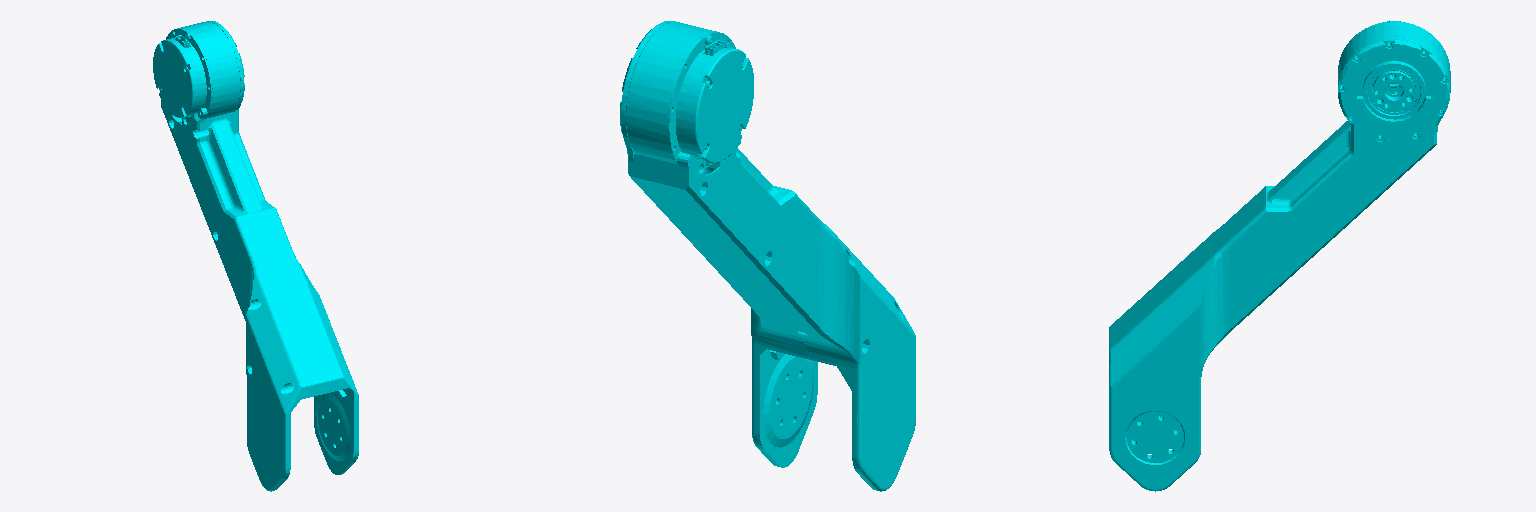
URDF robot description (URDF_armv001):
<?xml version="1.0" encoding="utf-8"?>
<!-- This URDF was automatically created by SolidWorks to URDF Exporter! Originally created by [author] ([email redacted]) 
     Commit Version: 1.6.0-4-g7f85cfe  Build Version: 1.6.7995.38578
     For more information, please see http://wiki.ros.org/sw_urdf_exporter -->
<robot
  name="URDF_armv001">
  <link
    name="base_link">
    <inertial>
      <origin
        xyz="0.00012503 1.4745E-05 0.026752"
        rpy="0 0 0" />
      <mass
        value="1.81" />
      <inertia
        ixx="0.00055145"
        ixy="1.5556E-06"
        ixz="1.4779E-06"
        iyy="0.0010327"
        iyz="8.2802E-08"
        izz="0.0014616" />
    </inertial>
    <visual>
      <origin
        xyz="0 0 0"
        rpy="0 0 0" />
      <geometry>
        <mesh
          filename="package://URDF_armv001/meshes/base_link.STL" />
      </geometry>
      <material
        name="">
        <color
          rgba="0 0.94118 0.98824 1" />
      </material>
    </visual>
    <collision>
      <origin
        xyz="0 0 0"
        rpy="0 0 0" />
      <geometry>
        <mesh
          filename="package://URDF_armv001/meshes/base_link.STL" />
      </geometry>
    </collision>
  </link>
  <link
    name="first_Link">
    <inertial>
      <origin
        xyz="0.0019709 -3.7688E-05 0.045814"
        rpy="0 0 0" />
      <mass
        value="1.05" />
      <inertia
        ixx="0.00020197"
        ixy="-1.66E-08"
        ixz="2.2663E-07"
        iyy="0.0001125"
        iyz="7.8462E-08"
        izz="0.0001431" />
    </inertial>
    <visual>
      <origin
        xyz="0 0 0"
        rpy="0 0 0" />
      <geometry>
        <mesh
          filename="package://URDF_armv001/meshes/first_Link.STL" />
      </geometry>
      <material
        name="">
        <color
          rgba="0.79216 0.81961 0.93333 1" />
      </material>
    </visual>
    <collision>
      <origin
        xyz="0 0 0"
        rpy="0 0 0" />
      <geometry>
        <mesh
          filename="package://URDF_armv001/meshes/first_Link.STL" />
      </geometry>
    </collision>
  </link>
  <joint
    name="first_joint"
    type="revolute">
    <origin
      xyz="0 0 0.0785000000000001"
      rpy="0 0 0" />
    <parent
      link="base_link" />
    <child
      link="first_Link" />
    <axis
      xyz="0 0 1" />
    <limit
      lower="-3.14"
      upper="3.14"
      effort="160"
      velocity="20.417" />
  </joint>
  <link
    name="second_Link">
    <inertial>
      <origin
        xyz="0.000857573444558835 0.0776042459103315 0.130616624503666"
        rpy="0 0 0" />
      <mass
        value="0.966" />
      <inertia
        ixx="0.00246169175712987"
        ixy="7.15160471159471E-06"
        ixz="1.14970999493612E-05"
        iyy="0.00149301141014258"
        iyz="-0.00107551298210178"
        izz="0.0010159642390867" />
    </inertial>
    <visual>
      <origin
        xyz="0 0 0"
        rpy="0 0 0" />
      <geometry>
        <mesh
          filename="package://URDF_armv001/meshes/second_Link.STL" />
      </geometry>
      <material
        name="">
        <color
          rgba="0 0.941176470588235 0.988235294117647 1" />
      </material>
    </visual>
    <collision>
      <origin
        xyz="0 0 0"
        rpy="0 0 0" />
      <geometry>
        <mesh
          filename="package://URDF_armv001/meshes/second_Link.STL" />
      </geometry>
    </collision>
  </link>
  <joint
    name="second_joint"
    type="revolute">
    <origin
      xyz="0 0 0.0614999999999968"
      rpy="0 0 0" />
    <parent
      link="first_Link" />
    <child
      link="second_Link" />
    <axis
      xyz="-1 0 0" />
    <limit
      lower="-2.15"
      upper="1.26"
      effort="60"
      velocity="20.4165" />
  </joint>
  <link
    name="third_Link">
    <inertial>
      <origin
        xyz="0.00167558365991412 -0.116252462462107 0.0252492816668452"
        rpy="0 0 0" />
      <mass
        value="0.69" />
      <inertia
        ixx="0.000582679607750313"
        ixy="-1.4662142928383E-05"
        ixz="1.94509615851066E-06"
        iyy="7.33395566734886E-05"
        iyz="4.46085226928446E-05"
        izz="0.000553919549010076" />
    </inertial>
    <visual>
      <origin
        xyz="0 0 0"
        rpy="0 0 0" />
      <geometry>
        <mesh
          filename="package://URDF_armv001/meshes/third_Link.STL" />
      </geometry>
      <material
        name="">
        <color
          rgba="0 0.941176470588235 0.988235294117647 1" />
      </material>
    </visual>
    <collision>
      <origin
        xyz="0 0 0"
        rpy="0 0 0" />
      <geometry>
        <mesh
          filename="package://URDF_armv001/meshes/third_Link.STL" />
      </geometry>
    </collision>
  </link>
  <joint
    name="third_joint"
    type="revolute">
    <origin
      xyz="0 0.165989898732231 0.257913780286487"
      rpy="0 0 0" />
    <parent
      link="second_Link" />
    <child
      link="third_Link" />
    <axis
      xyz="-1 0 0" />
    <limit
      lower="-0.75"
      upper="2.38"
      effort="17"
      velocity="32.9805" />
  </joint>
  <link
    name="fourth_Link">
    <inertial>
      <origin
        xyz="3.0956E-05 -0.027807 -7.0032E-05"
        rpy="0 0 0" />
      <mass
        value="0.37" />
      <inertia
        ixx="3.2899E-05"
        ixy="2.5288E-06"
        ixz="-2.3777E-08"
        iyy="2.1257E-05"
        iyz="1.4904E-07"
        izz="2.1529E-05" />
    </inertial>
    <visual>
      <origin
        xyz="0 0 0"
        rpy="0 0 0" />
      <geometry>
        <mesh
          filename="package://URDF_armv001/meshes/fourth_Link.STL" />
      </geometry>
      <material
        name="">
        <color
          rgba="0 0.94118 0.98824 1" />
      </material>
    </visual>
    <collision>
      <origin
        xyz="0 0 0"
        rpy="0 0 0" />
      <geometry>
        <mesh
          filename="package://URDF_armv001/meshes/fourth_Link.STL" />
      </geometry>
    </collision>
  </link>
  <joint
    name="fourth_joint"
    type="revolute">
    <origin
      xyz="0 -0.247999999999997 0.0289999999999987"
      rpy="0 0 0" />
    <parent
      link="third_Link" />
    <child
      link="fourth_Link" />
    <axis
      xyz="0 1 0" />
    <limit
      lower="-3.14"
      upper="3.14"
      effort="14"
      velocity="32.9805" />
  </joint>
  <link
    name="fifth_Link">
    <inertial>
      <origin
        xyz="0.00300098384037063 -0.0489667534520629 -0.00025041259776476"
        rpy="0 0 0" />
      <mass
        value="0.37" />
      <inertia
        ixx="2.07164941375216E-05"
        ixy="-3.06195815006198E-06"
        ixz="-5.10277075875545E-08"
        iyy="3.10481600066296E-05"
        iyz="9.30254252584598E-08"
        izz="2.27119764110177E-05" />
    </inertial>
    <visual>
      <origin
        xyz="0 0 0"
        rpy="0 0 0" />
      <geometry>
        <mesh
          filename="package://URDF_armv001/meshes/fifth_Link.STL" />
      </geometry>
      <material
        name="">
        <color
          rgba="0.317647058823529 0.635294117647059 1 1" />
      </material>
    </visual>
    <collision>
      <origin
        xyz="0 0 0"
        rpy="0 0 0" />
      <geometry>
        <mesh
          filename="package://URDF_armv001/meshes/fifth_Link.STL" />
      </geometry>
    </collision>
  </link>
  <joint
    name="fifth_joint"
    type="revolute">
    <origin
      xyz="0 -0.036 0"
      rpy="0 0 0" />
    <parent
      link="fourth_Link" />
    <child
      link="fifth_Link" />
    <axis
      xyz="-1 0 0" />
    <limit
      lower="-1.57"
      upper="1.57"
      effort="14"
      velocity="32.9805" />
  </joint>
  <link
    name="sixth_Link">
    <inertial>
      <origin
        xyz="1.39012723646137E-06 -0.0549727115442942 -0.000135720167939724"
        rpy="0 0 0" />
      <mass
        value="0.5" />
      <inertia
        ixx="3.56133730917755E-05"
        ixy="4.25963069298585E-09"
        ixz="7.55175416452852E-09"
        iyy="0.000162342067218402"
        iyz="9.33294369793947E-08"
        izz="0.000161561054644543" />
    </inertial>
    <visual>
      <origin
        xyz="0 0 0"
        rpy="0 0 0" />
      <geometry>
        <mesh
          filename="package://URDF_armv001/meshes/sixth_Link.STL" />
      </geometry>
      <material
        name="">
        <color
          rgba="0.792156862745098 0.819607843137255 0.933333333333333 1" />
      </material>
    </visual>
    <collision>
      <origin
        xyz="0 0 0"
        rpy="0 0 0" />
      <geometry>
        <mesh
          filename="package://URDF_armv001/meshes/sixth_Link.STL" />
      </geometry>
    </collision>
  </link>
  <joint
    name="sixth_joint"
    type="revolute">
    <origin
      xyz="-0.00100000000000486 -0.0869999999999949 0"
      rpy="0 0 0" />
    <parent
      link="fifth_Link" />
    <child
      link="sixth_Link" />
    <axis
      xyz="0 1 0" />
    <limit
      lower="-3.14"
      upper="3.14"
      effort="14"
      velocity="32.9805" />
  </joint>
</robot>

--- Render facts (derived) ---
The picture shows the robot from 3 angles, left to right: view 1: azimuth 30°, elevation 25°; view 2: azimuth 150°, elevation 25°; view 3: azimuth 270°, elevation 25°; orthographic projection.
Model URDF_armv001 with 7 links and 6 joints (6 revolute), rooted at base_link, posed all joints at 0.
Visible links, largest first — view 1: second_Link; view 2: second_Link; view 3: second_Link.
Boxes of the visible links, x1=… form: second_Link: x1=153, y1=21, x2=358, y2=491; second_Link: x1=620, y1=21, x2=915, y2=491; second_Link: x1=1109, y1=20, x2=1450, y2=491.
Bounding box of the posed robot: 0.07 × 0.2372 × 0.339 m (x, y, z).
1 mesh visuals loaded from 7 distinct referenced files (1 binary STL); not drawn: 6 (reference not matched to a file when rendering).